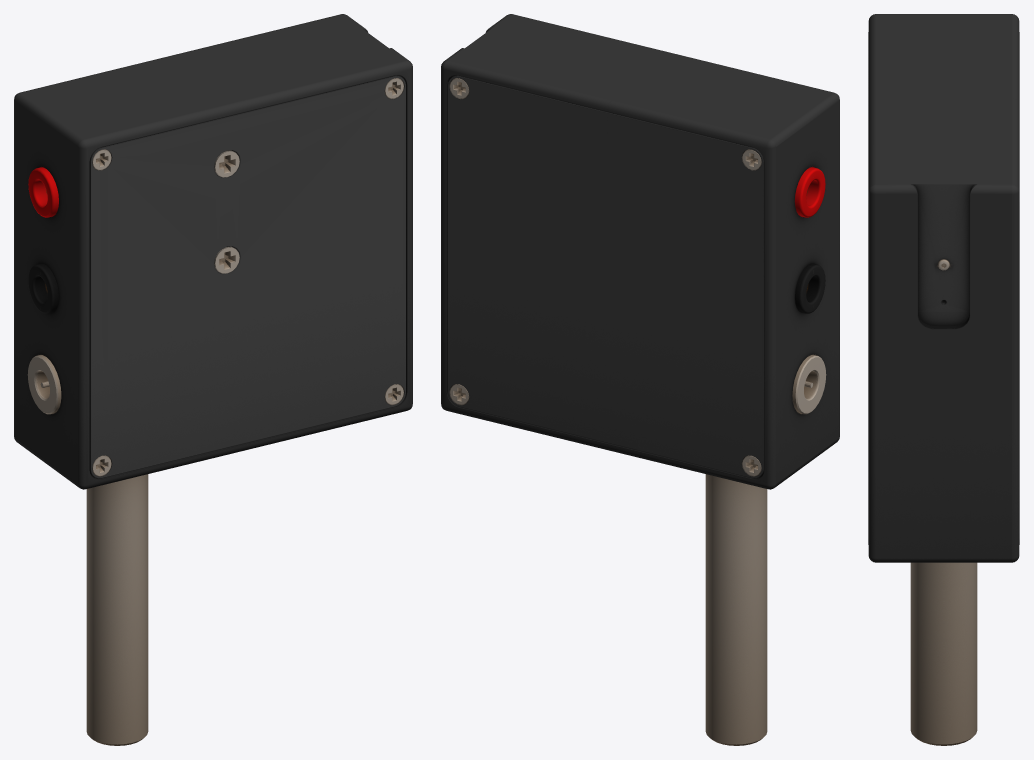
File: Detektor.obj
The picture shows the model from 3 angles, left to right: view 1: azimuth 30°, elevation 25°; view 2: azimuth 150°, elevation 25°; view 3: azimuth 270°, elevation 25°; orthographic projection. The views are drawn at different scales.
Parts seen in each view (by area): view 1: pCylinder174; view 2: pCylinder174; view 3: pCylinder174.
Boxes of the visible parts, box(x1,y1,x2,y2) form: pCylinder174: box(14, 14, 412, 745); pCylinder174: box(441, 14, 839, 745); pCylinder174: box(868, 14, 1019, 745).
Bounding box in the file's own units: 81.5 × 145 × 29.02.
